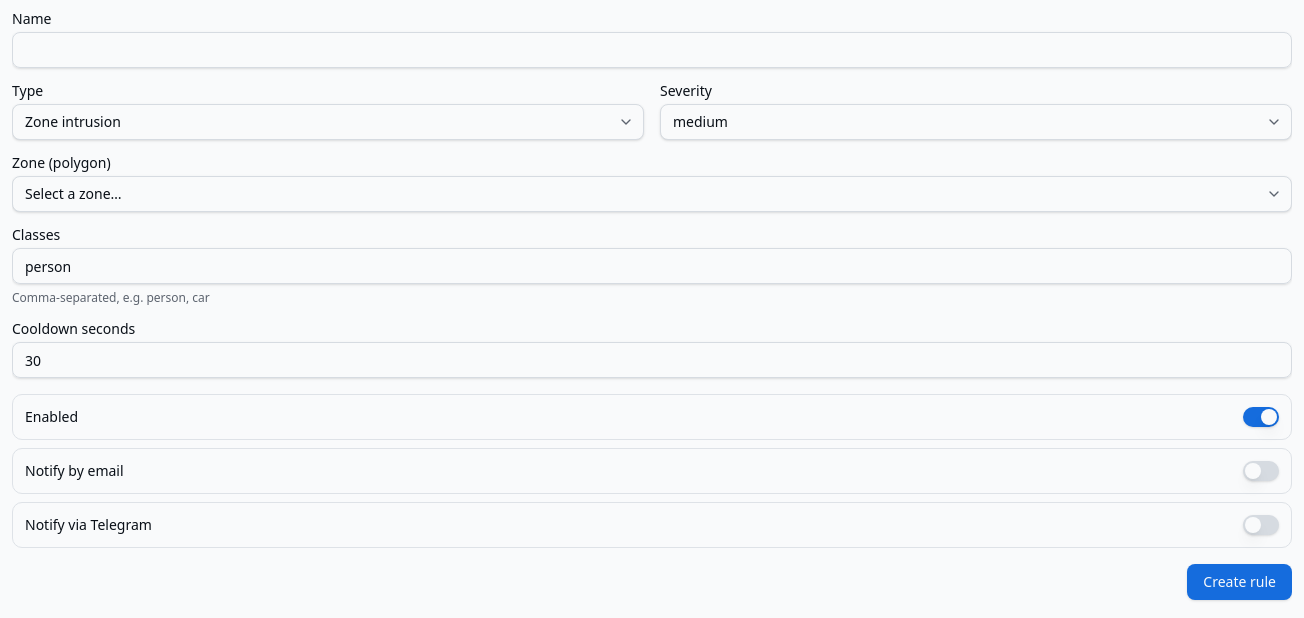
RuleForm › crowd_count has optional zone + max_count; line_crossing only lists line zones
The width and height of the screenshot is (1304, 618).
Select "Crowd count" in the dropdown labelled "Type" at (328, 122), box [12,104,644,140]
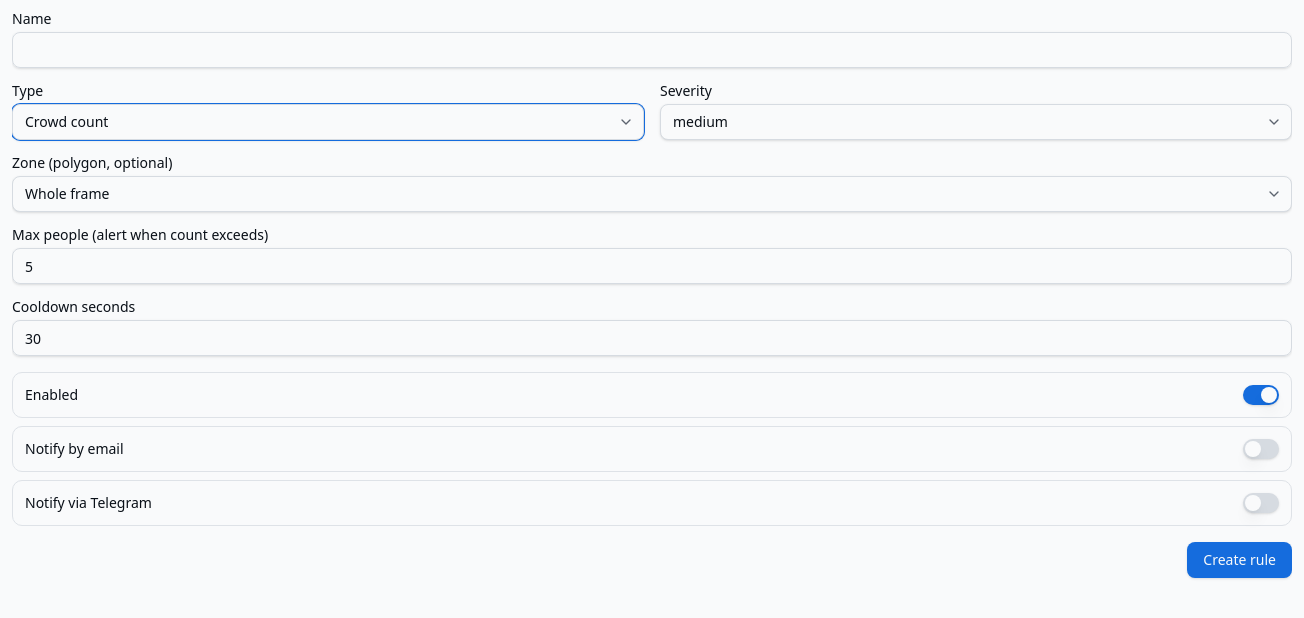
Check: the number field labelled "Max people (alert when count exceeds)" is shown, box [12,248,1292,284]
Check: the dropdown labelled "Zone (polygon, optional)" shows "Whole frame", box [12,176,1292,212]
Check: the label labelled "Classes" is gone
Select "Line crossing" in the dropdown labelled "Type" at (328, 122), box [12,104,644,140]
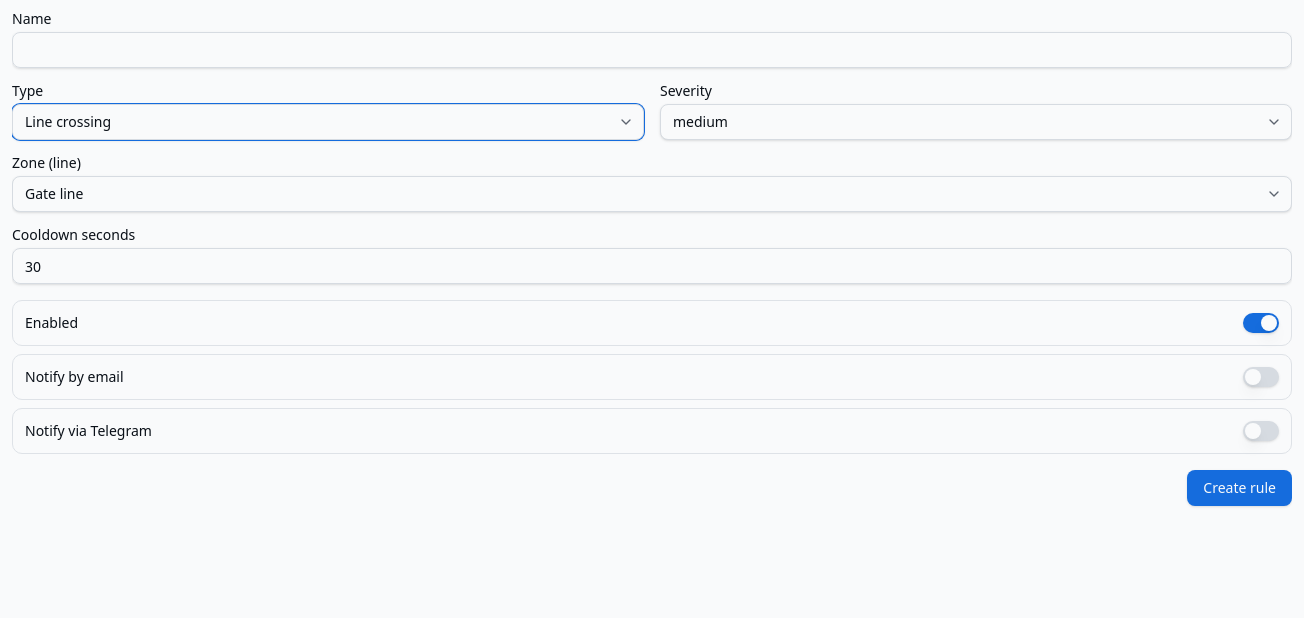
Check: the dropdown labelled "Zone (line)" shows "Gate line", box [12,176,1292,212]
Check: the label labelled "Max people" is gone
